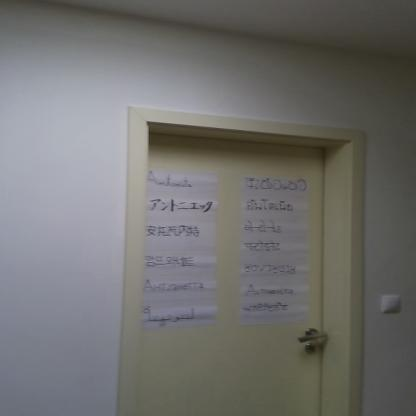door: (149, 136, 328, 416)
lever: (292, 330, 328, 342)
